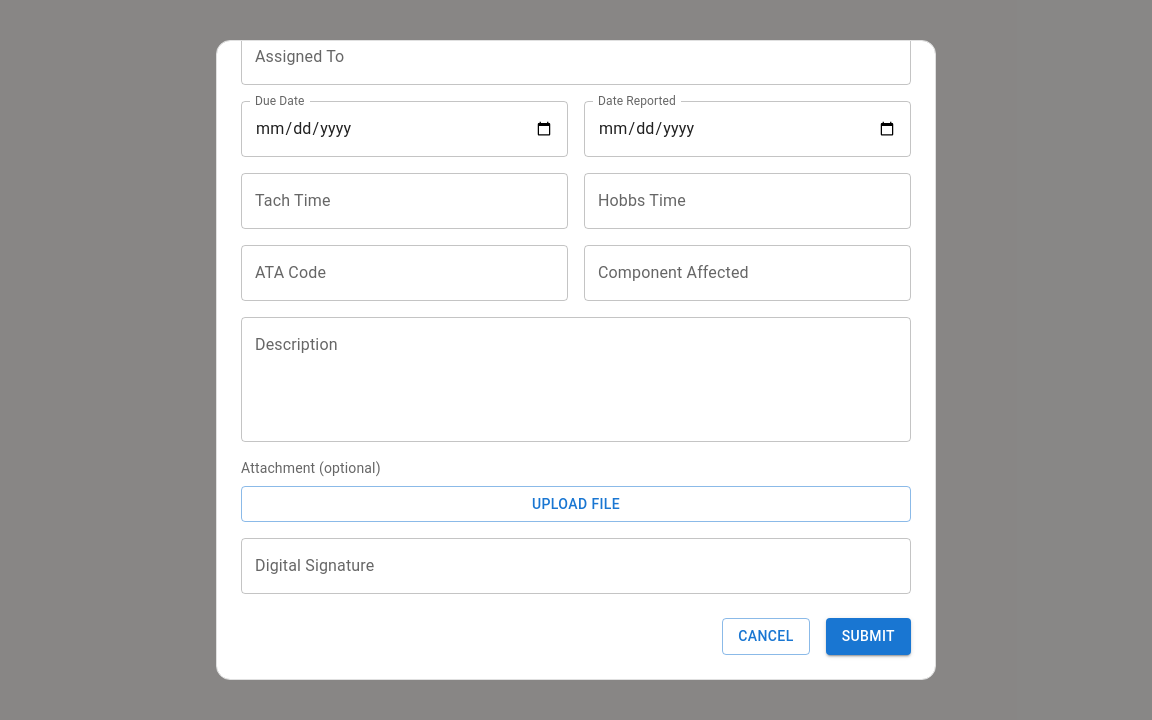
Test: AddWorkOrderForm › Form Validation › should show multiple validation errors at once
This screenshot has width=1152, height=720.
(page scrolled)
Click the button "Submit": [868, 636] box [826, 618, 911, 654]
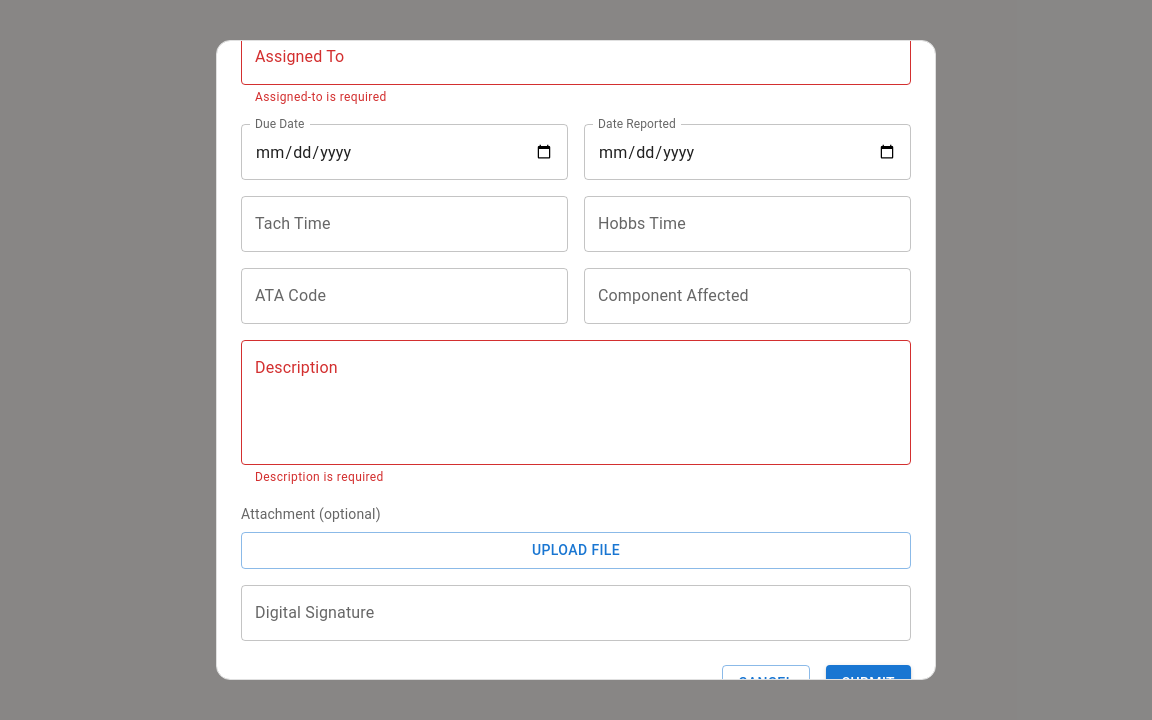
Now the text "Assigned-to is required" is shown, box [255, 90, 387, 104]
Now the text "Description is required" is shown, box [255, 470, 384, 484]
